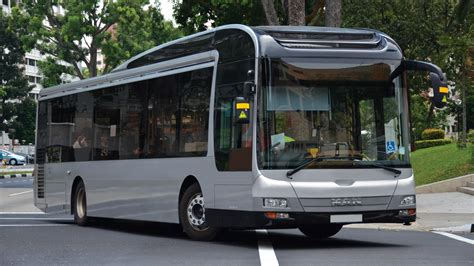bus: (33, 28, 415, 235)
